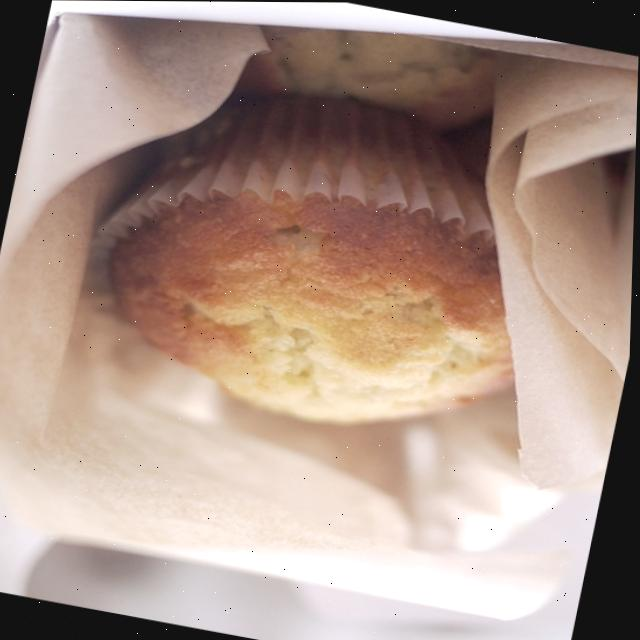炸货点心: (6, 18, 621, 546)
面包点心: (6, 18, 621, 546)
